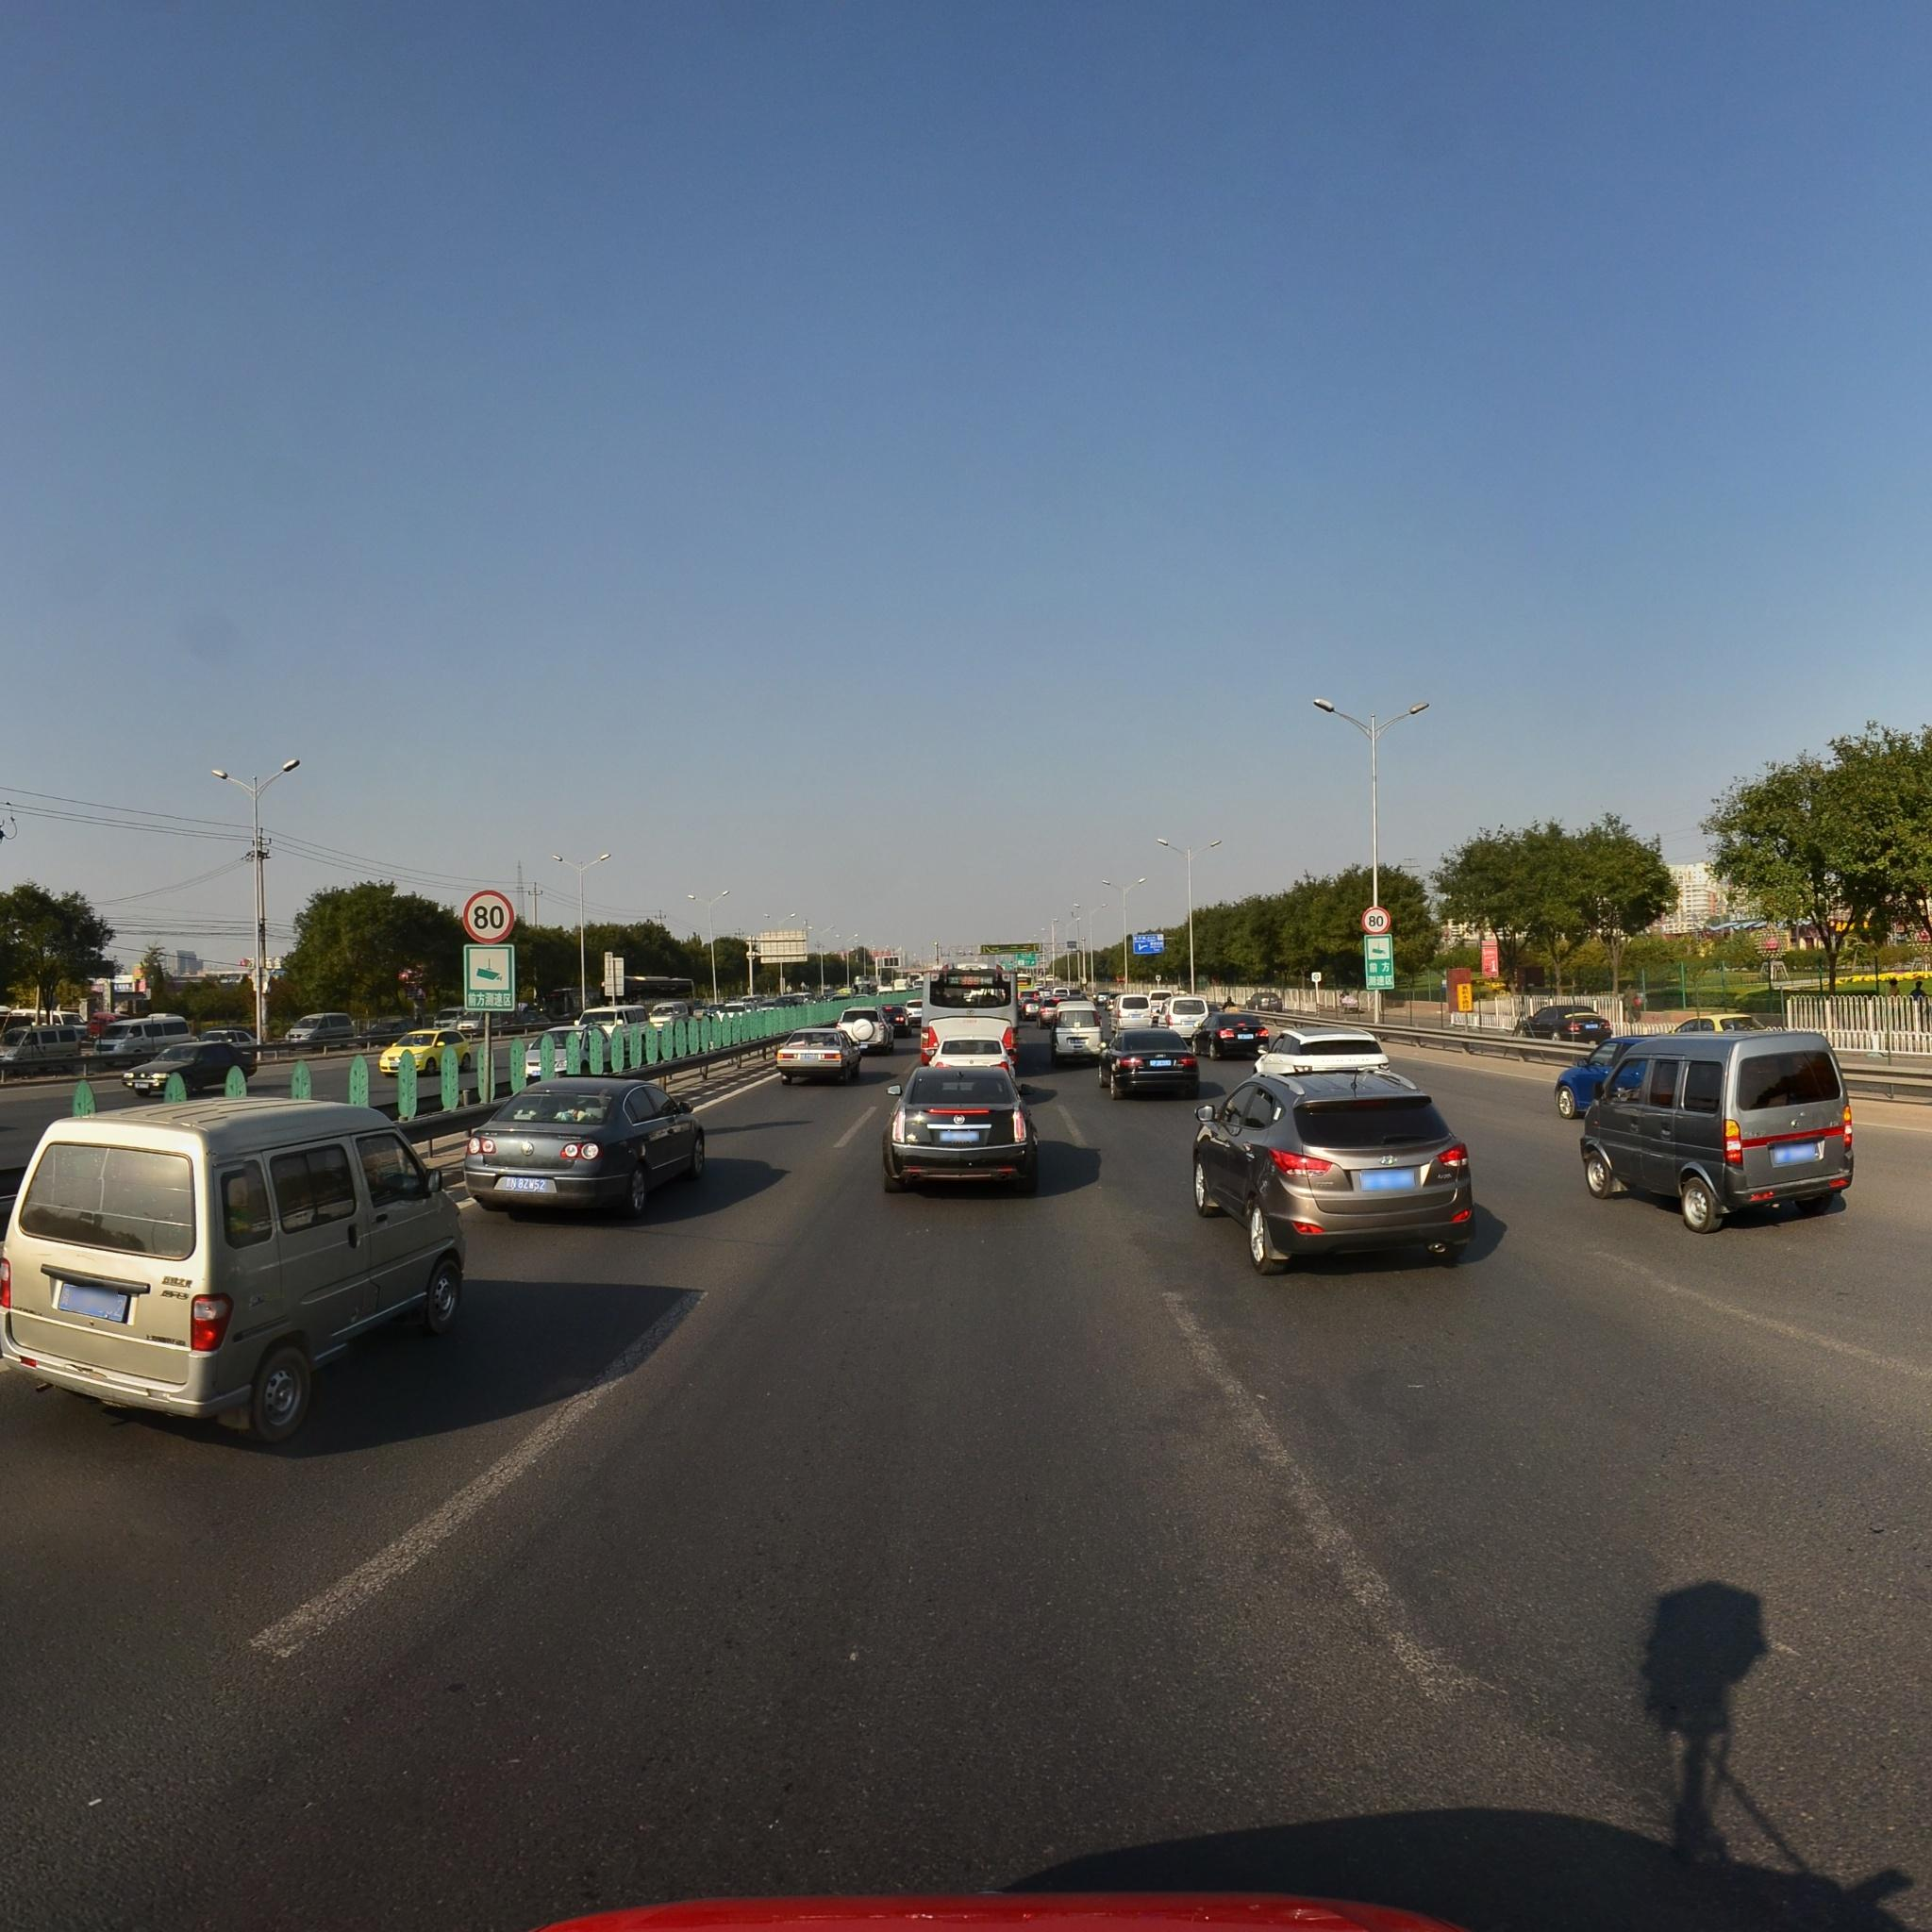pl80: (464, 890, 510, 943), (1361, 906, 1389, 931)
